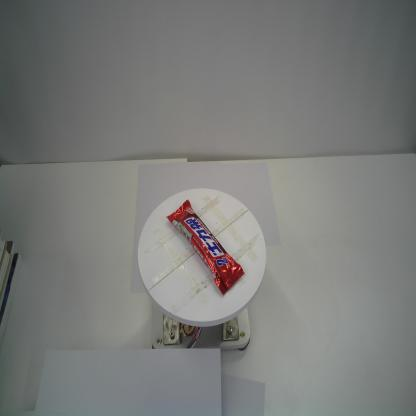Chocolate: (164, 198, 245, 298)
